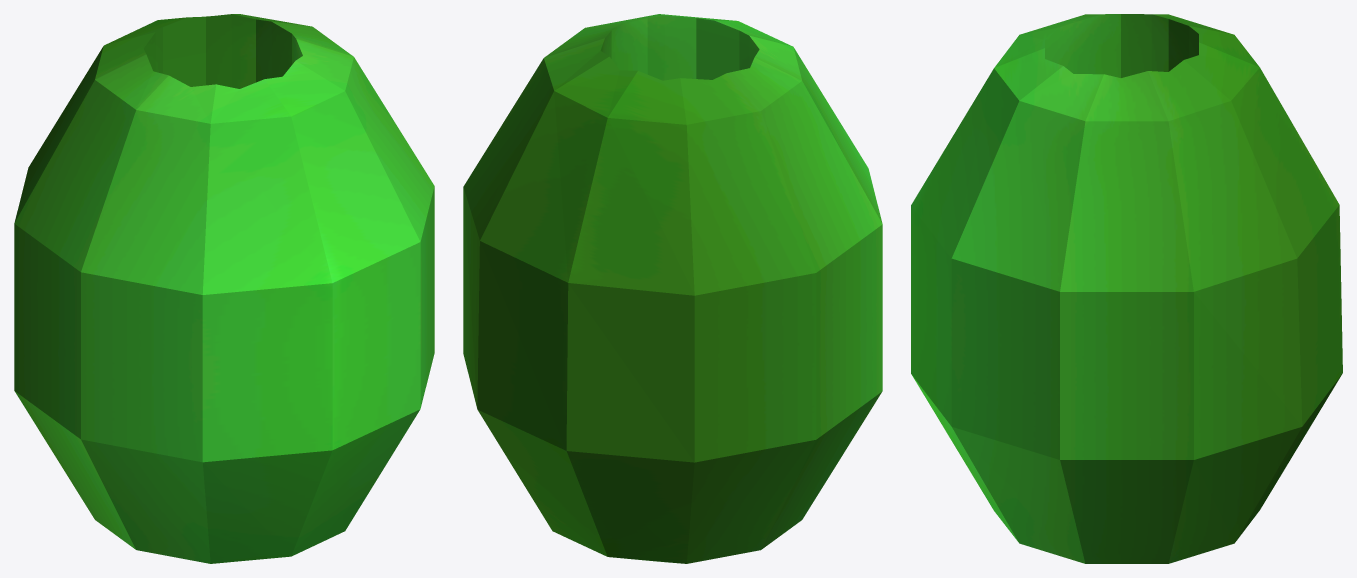
File: InvBead.glb
3 renders of one model, left to right at view 1: azimuth 30°, elevation 25°; view 2: azimuth 150°, elevation 25°; view 3: azimuth 270°, elevation 25°, orthographic.
Visible parts, largest first — view 1: InvBead; view 2: InvBead; view 3: InvBead.
Part boxes in pixels (x1,y1,x2,y2): InvBead: [14, 14, 434, 563]; InvBead: [463, 14, 882, 563]; InvBead: [911, 14, 1342, 563].
Bounding box in the file's own units: 13.12 × 17.37 × 13.79.
1 material, 1 textured.
